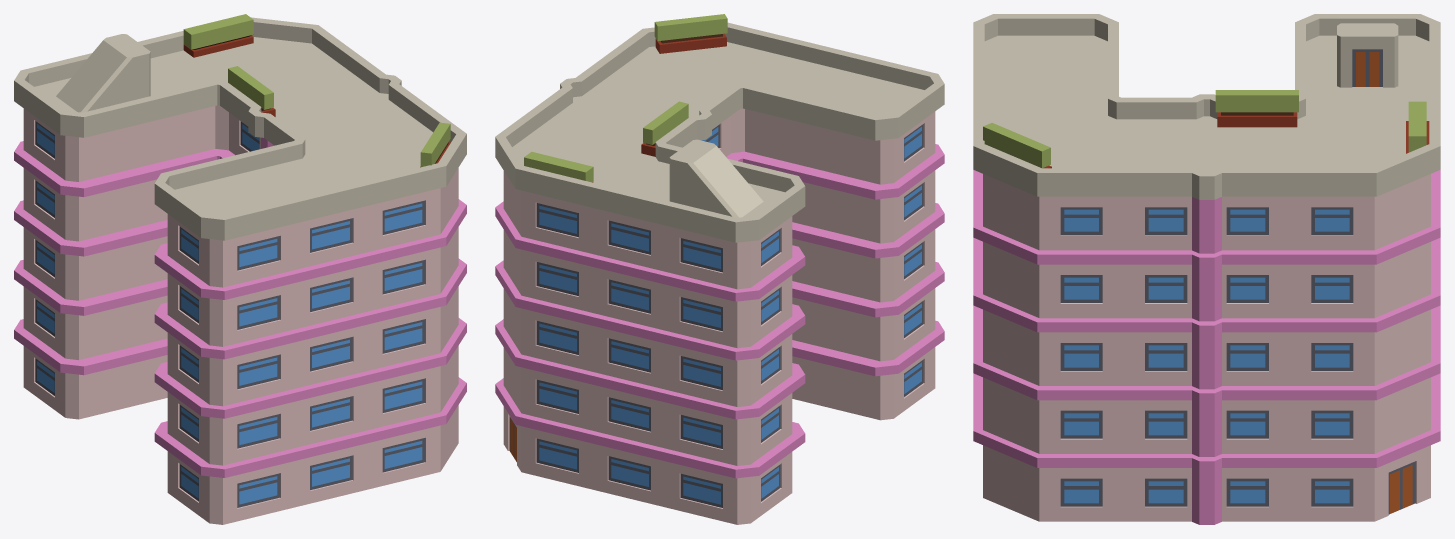
3 views of the same model, side by side, from view 1: azimuth 30°, elevation 25°; view 2: azimuth 150°, elevation 25°; view 3: azimuth 270°, elevation 25° (orthographic). The views are drawn at different scales.
Visible parts, largest first — view 1: predio 3.003; view 2: predio 3.003; view 3: predio 3.003.
Boxes of the visible parts, box(x1,y1,x2,y2) form: predio 3.003: box(14, 14, 466, 524); predio 3.003: box(495, 14, 944, 524); predio 3.003: box(973, 14, 1440, 524).
Size of the model in its own units: 10225 by 11368 by 12437.
